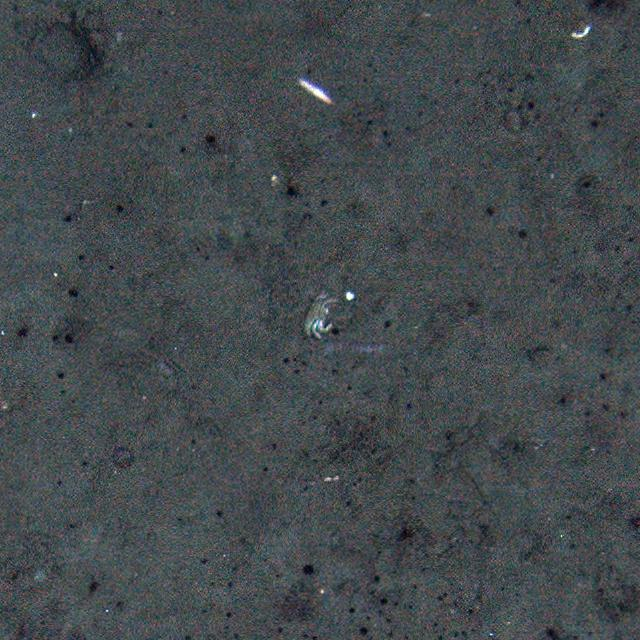crab: (301, 290, 337, 338)
